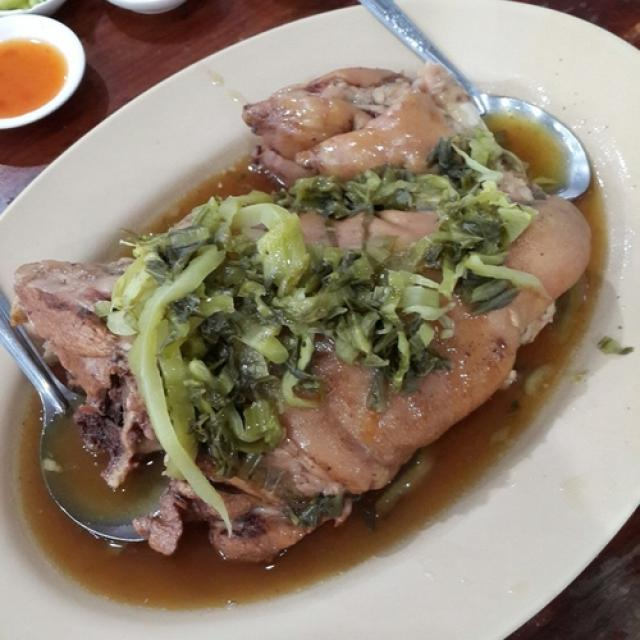猪肉菜式: (26, 44, 599, 578)
